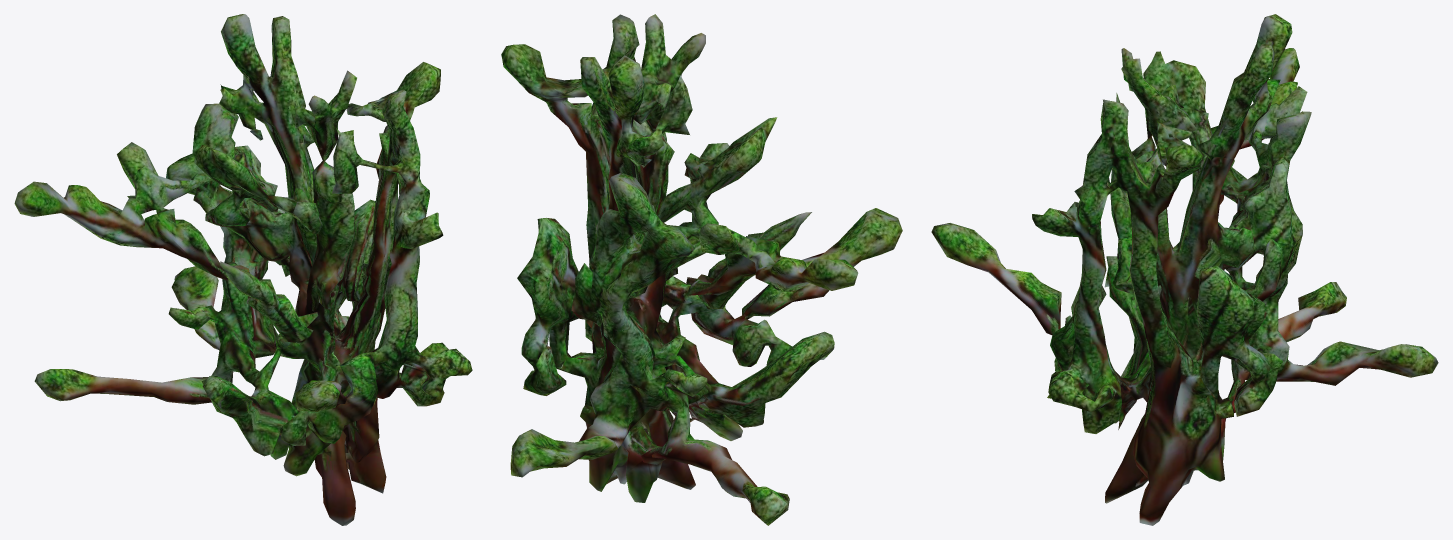
Rendered from 4ac43d95c669_stylized_bundle_of_.fbx.
3 renders of one model, left to right at view 1: azimuth 30°, elevation 25°; view 2: azimuth 150°, elevation 25°; view 3: azimuth 270°, elevation 25°, orthographic. The views are drawn at different scales.
Parts seen in each view (by area): view 1: mesh; view 2: mesh; view 3: mesh.
Boxes of the visible parts, x1,y1,x2,y2 form: mesh: (14, 14, 472, 525); mesh: (501, 14, 902, 525); mesh: (931, 14, 1438, 525).
Bounding box in the file's own units: 85.3 × 100 × 96.98.
